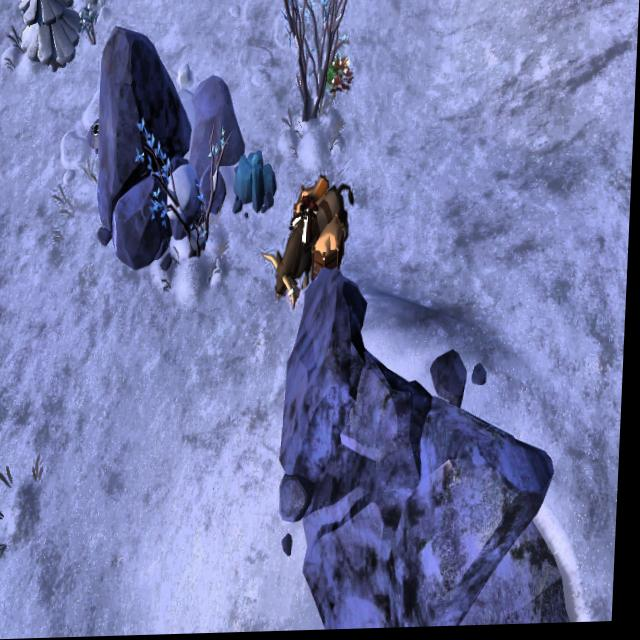fiber_t4: (73, 0, 99, 49)
fiber_t5: (329, 56, 355, 99)
rock_t4: (232, 151, 280, 218)
